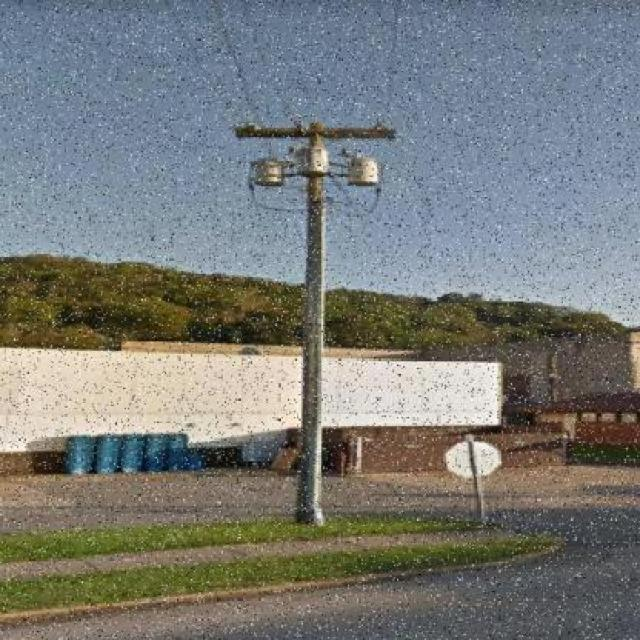pole: (178, 76, 442, 536)
